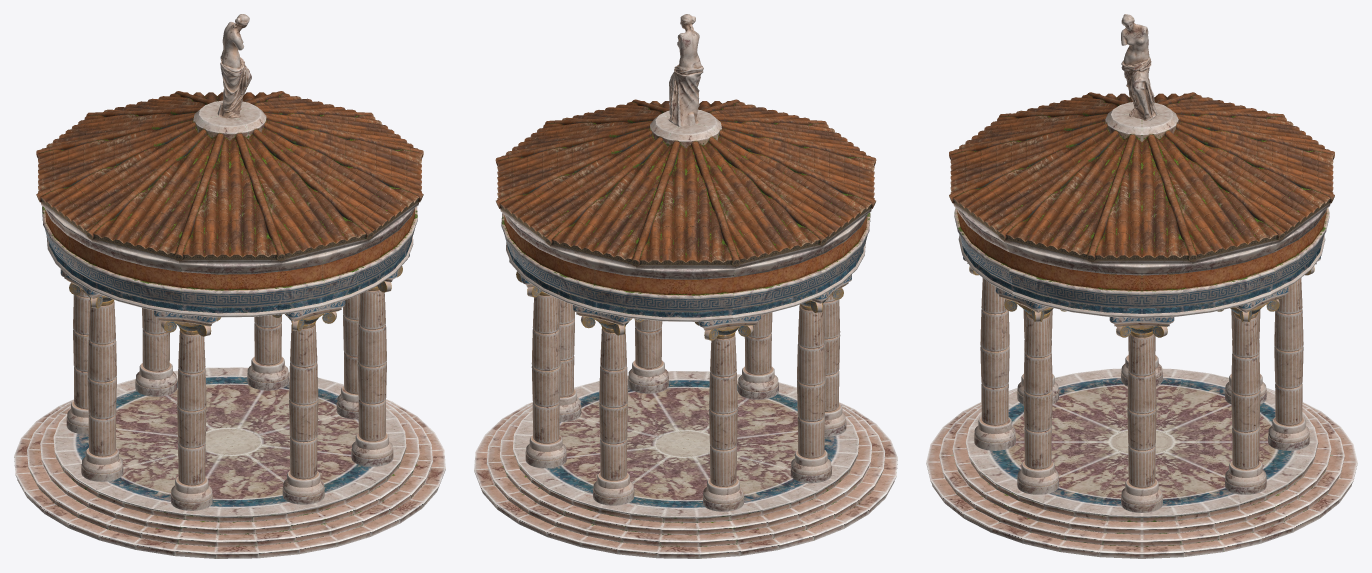
File: greek_kiosk.glb
3 views of the same model, side by side, from view 1: azimuth 30°, elevation 25°; view 2: azimuth 150°, elevation 25°; view 3: azimuth 270°, elevation 25° (orthographic).
Parts seen in each view (by area): view 1: toit_low_Material_005_0, socle_low_Material_001_0, colonnes_low_Material_003_0, frontispice_low_Material_004_0, venusDeMilo_Default_0; view 2: toit_low_Material_005_0, socle_low_Material_001_0, colonnes_low_Material_003_0, frontispice_low_Material_004_0, venusDeMilo_Default_0; view 3: toit_low_Material_005_0, socle_low_Material_001_0, colonnes_low_Material_003_0, frontispice_low_Material_004_0, venusDeMilo_Default_0.
Part boxes in pixels (x1,y1,x2,y2): toit_low_Material_005_0: [36, 91, 423, 263]; socle_low_Material_001_0: [14, 367, 445, 558]; colonnes_low_Material_003_0: [60, 254, 409, 510]; frontispice_low_Material_004_0: [42, 206, 417, 317]; venusDeMilo_Default_0: [217, 14, 251, 120]; toit_low_Material_005_0: [495, 99, 876, 268]; socle_low_Material_001_0: [474, 371, 897, 558]; colonnes_low_Material_003_0: [509, 259, 851, 511]; frontispice_low_Material_004_0: [501, 212, 870, 321]; venusDeMilo_Default_0: [668, 14, 703, 126]; toit_low_Material_005_0: [949, 92, 1334, 264]; socle_low_Material_001_0: [926, 368, 1357, 558]; colonnes_low_Material_003_0: [963, 256, 1320, 512]; frontispice_low_Material_004_0: [951, 186, 1332, 318]; venusDeMilo_Default_0: [1121, 14, 1157, 120].
Size of the model in its own units: 257 by 300 by 257.
6 materials, 6 textured.
